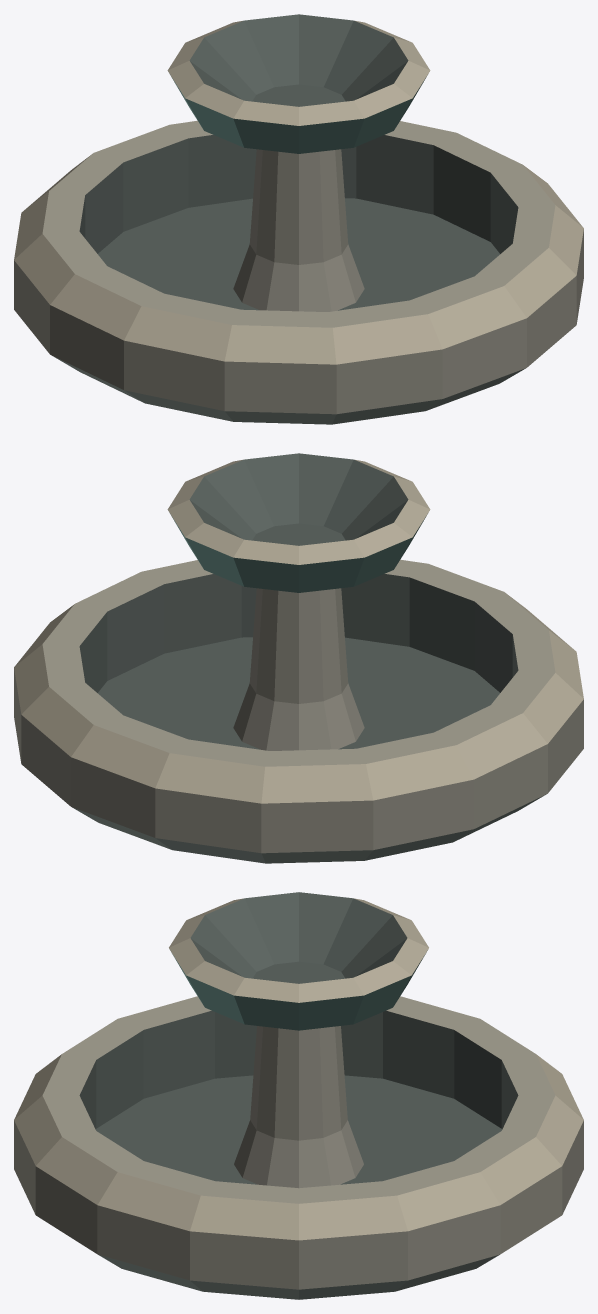
The model's file is fountain-dry.glb.
3 renders of one model, top to bottom at view 1: azimuth 30°, elevation 25°; view 2: azimuth 150°, elevation 25°; view 3: azimuth 270°, elevation 25°, orthographic.
Visible parts, largest first — view 1: fountain-dry__body; view 2: fountain-dry__body; view 3: fountain-dry__body.
Part boxes in pixels (x1,y1,x2,y2): fountain-dry__body: (14,14,583,424); fountain-dry__body: (14,453,583,863); fountain-dry__body: (14,892,583,1299).
Bounding box in the file's own units: 2.1 × 1.04 × 2.1.
